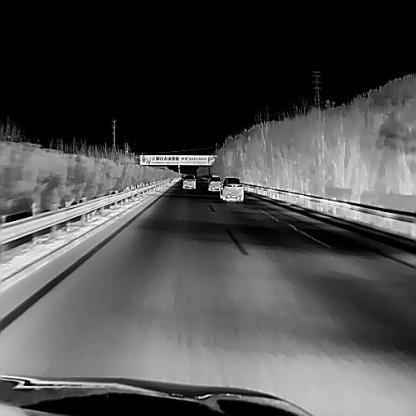car: (220, 176, 243, 200), (207, 174, 222, 190), (182, 174, 196, 188)
